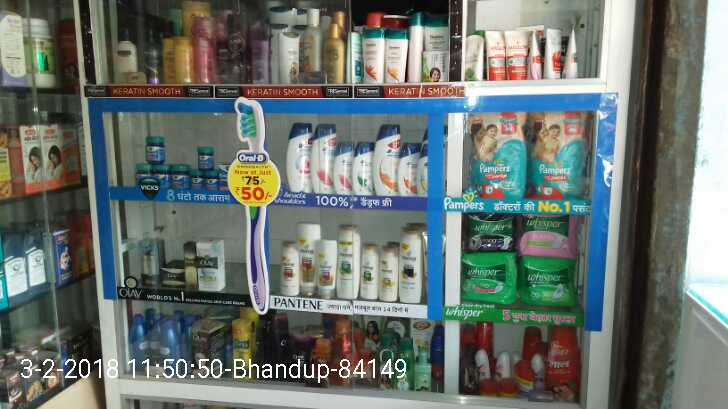beauty: (393, 227, 428, 305), (372, 119, 398, 194), (282, 125, 310, 192), (311, 117, 334, 197), (336, 226, 360, 300), (313, 235, 337, 304), (374, 246, 400, 303), (198, 240, 227, 291), (137, 236, 164, 289), (352, 136, 373, 199), (335, 134, 355, 191), (395, 136, 413, 196), (281, 235, 296, 302), (356, 248, 375, 297), (180, 242, 193, 285)
pharmacy: (466, 110, 528, 201), (531, 111, 586, 200), (462, 248, 514, 310), (516, 210, 577, 260), (519, 257, 576, 307), (467, 210, 510, 255), (142, 134, 165, 165), (168, 163, 189, 191), (151, 162, 170, 188), (199, 144, 215, 172), (133, 160, 146, 185), (187, 171, 201, 193), (205, 175, 218, 188)
